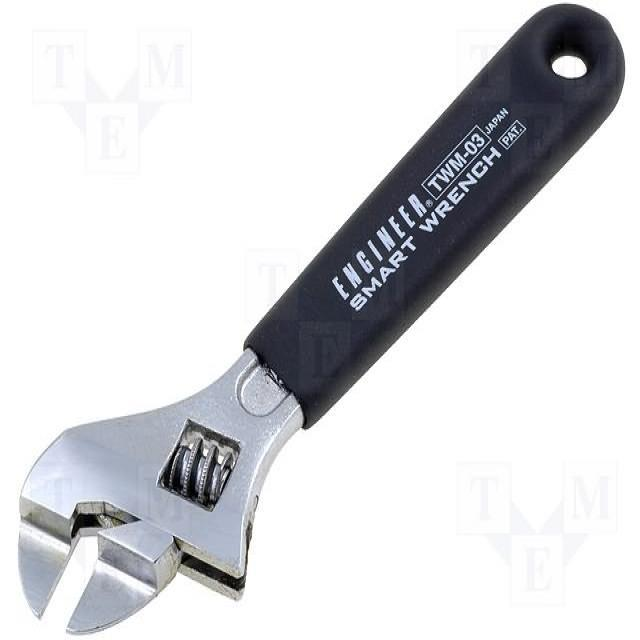wrench: (12, 0, 632, 640)
